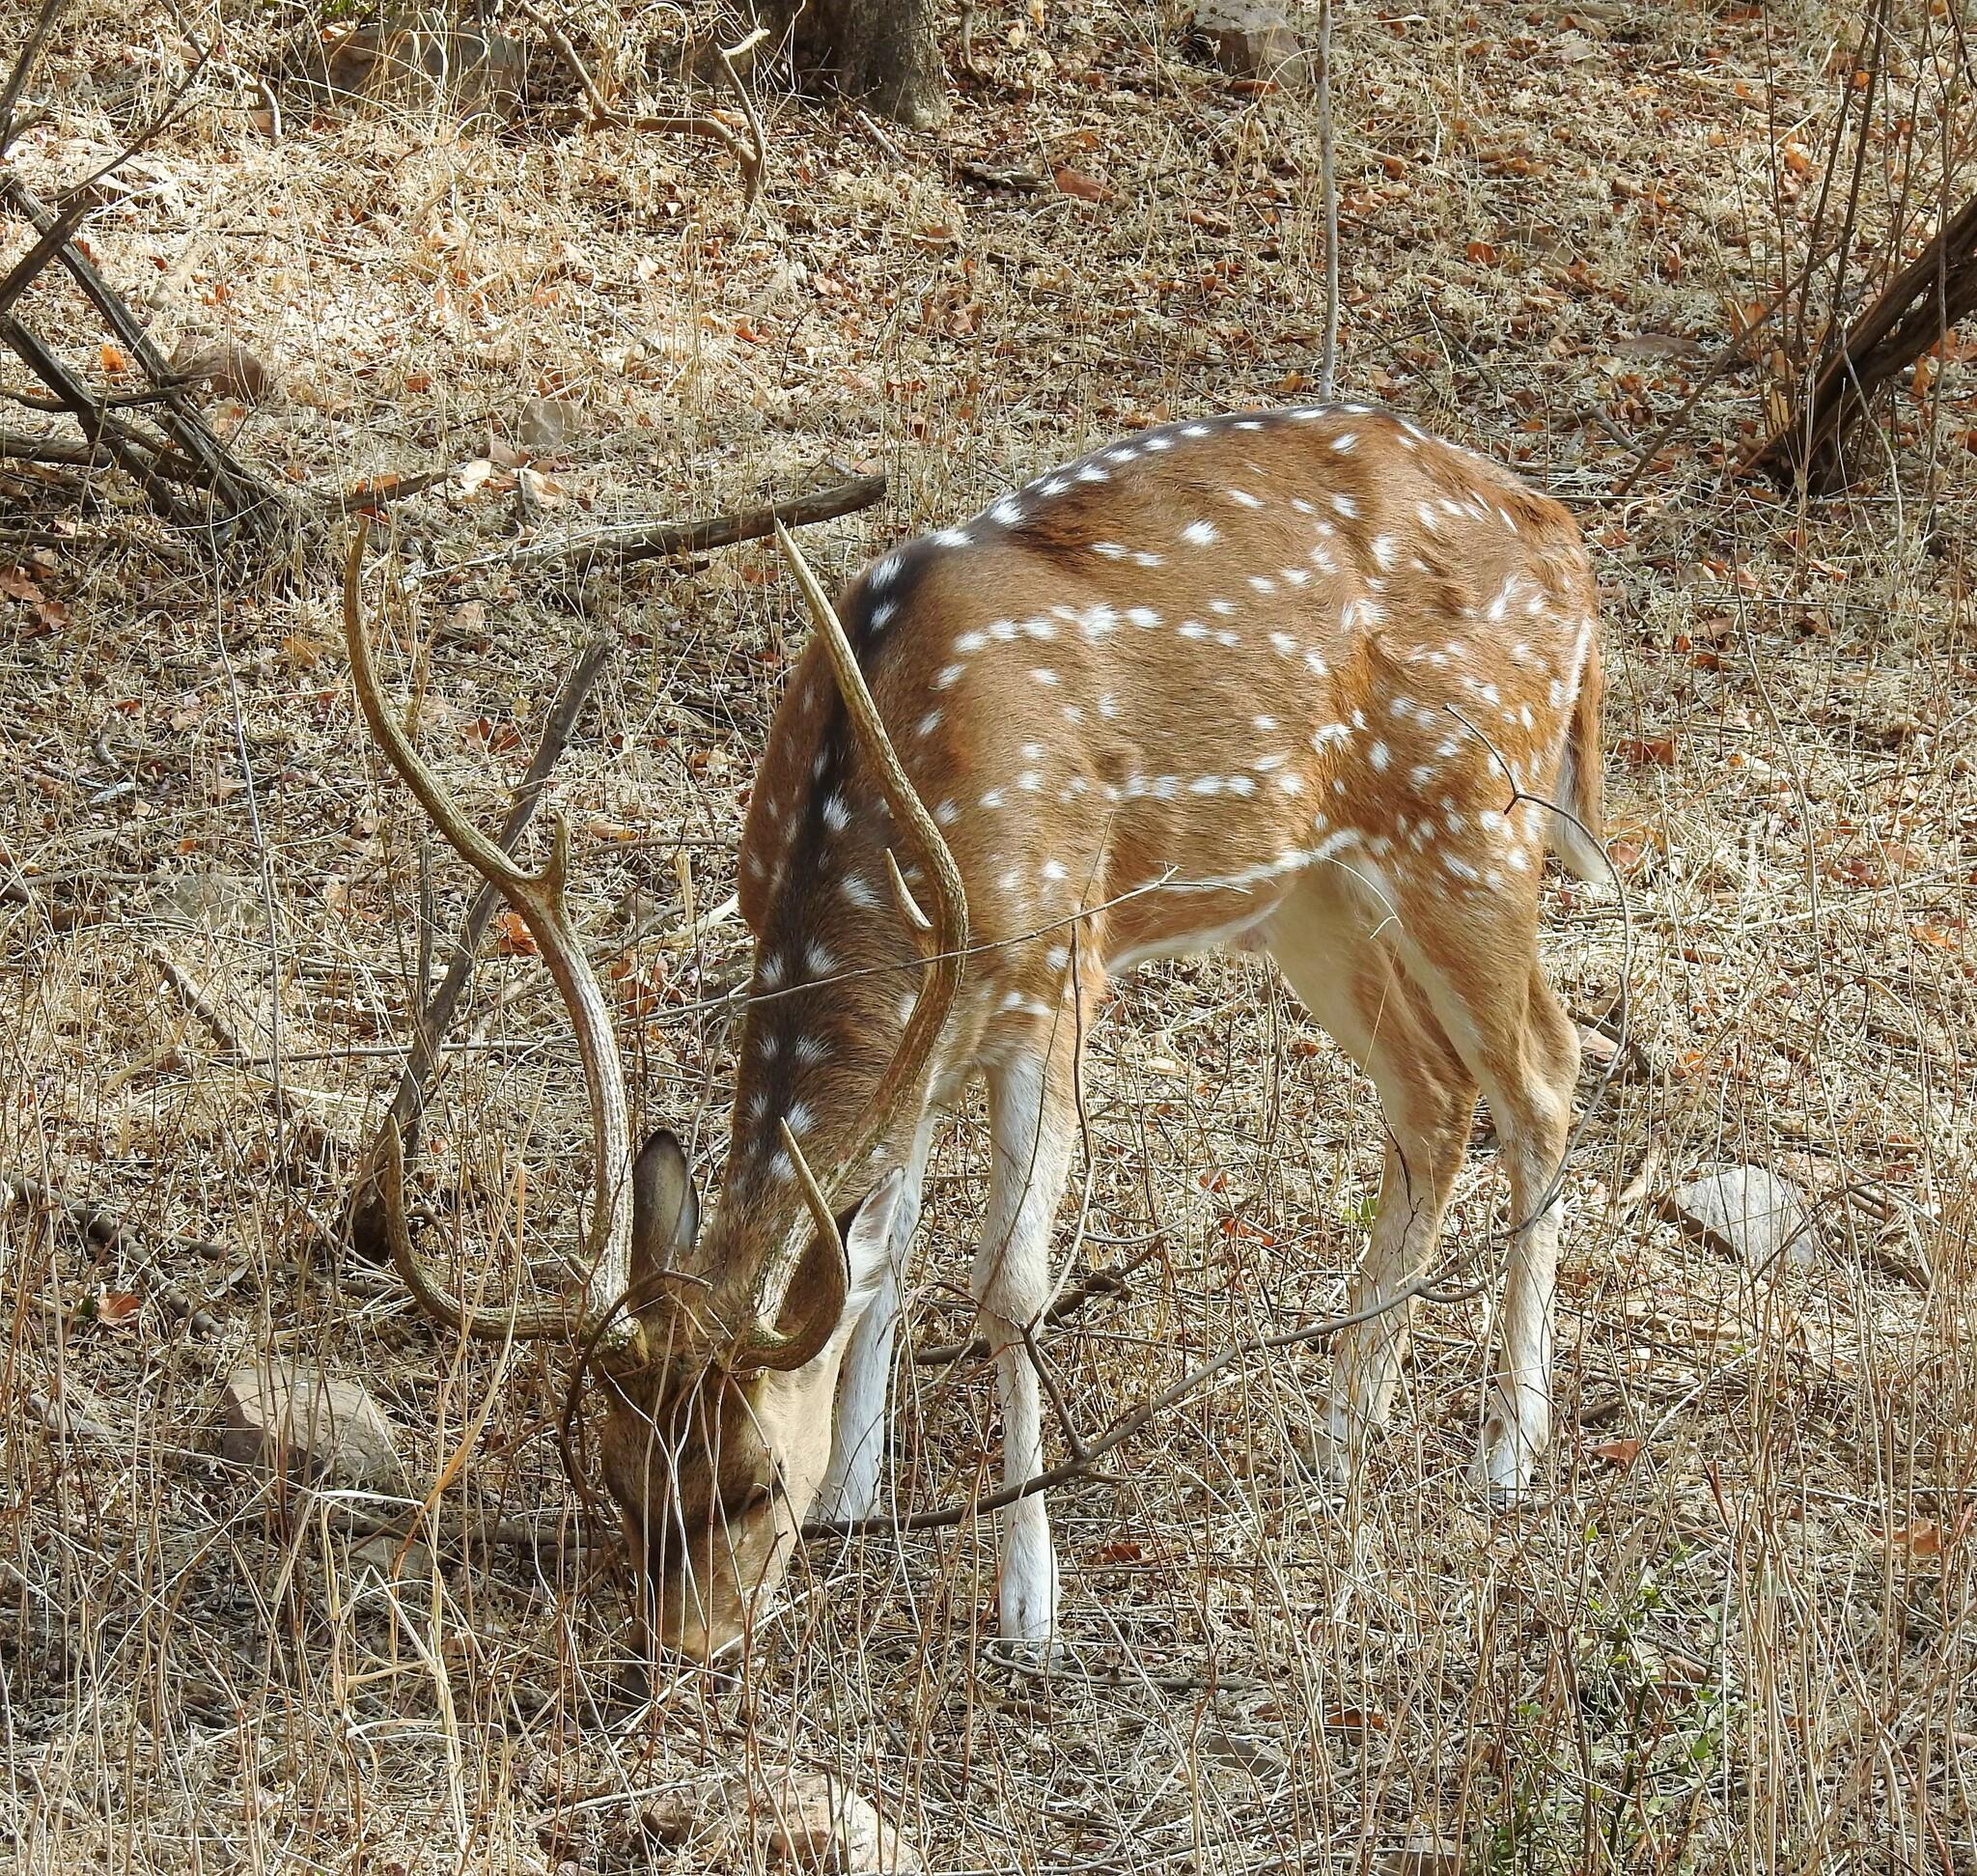Deer: (345, 402, 1612, 1659)
